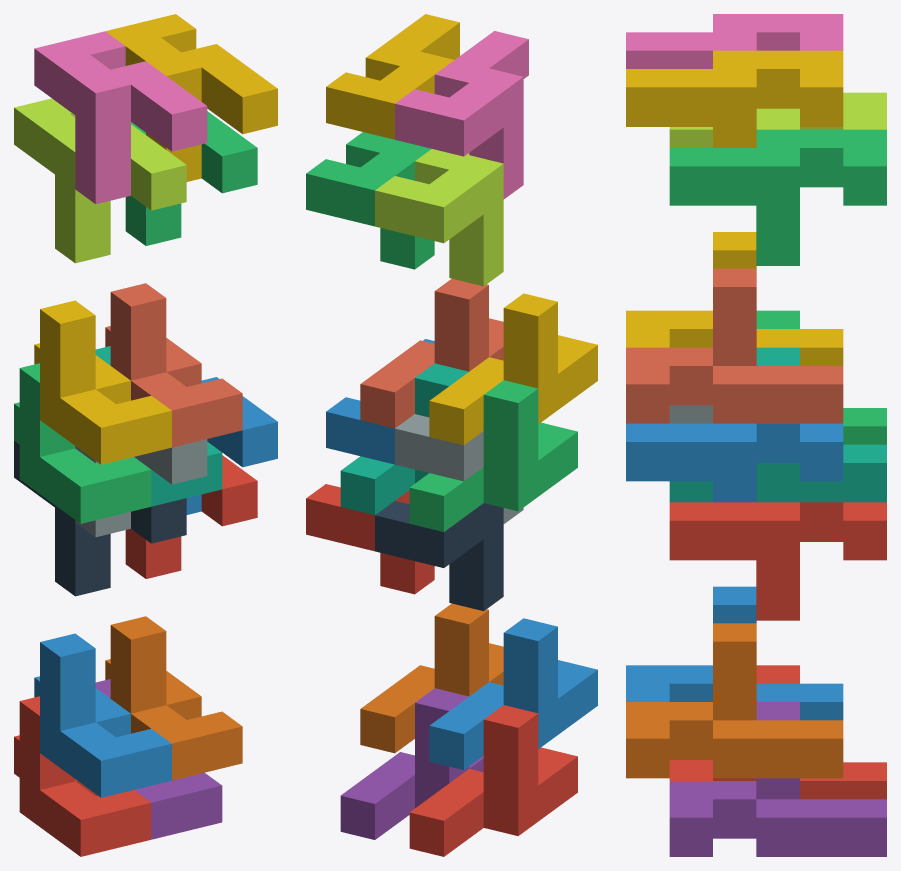
The model's file is tiling.obj.
3 views of the same model, side by side, from view 1: azimuth 30°, elevation 25°; view 2: azimuth 150°, elevation 25°; view 3: azimuth 270°, elevation 25° (orthographic). The views are drawn at different scales.
Parts seen in each view (by area): view 1: copy_2_domain_4, copy_1_domain_2, copy_1_domain_4, copy_1_domain_6, copy_1_domain_8, copy_2_domain_3, copy_2_domain_8, copy_1_domain_1, copy_1_domain_3, copy_2_domain_1, copy_2_domain_7, copy_2_domain_5 (+4 smaller); view 2: copy_1_domain_1, copy_2_domain_4, copy_1_domain_3, copy_2_domain_3, copy_1_domain_4, copy_1_domain_2, copy_1_domain_6, copy_1_domain_8, copy_2_domain_8, copy_2_domain_1, copy_2_domain_7, copy_1_domain_5 (+4 smaller); view 3: copy_1_domain_6, copy_1_domain_8, copy_2_domain_7, copy_2_domain_8, copy_1_domain_5, copy_2_domain_5, copy_2_domain_6, copy_2_domain_4, copy_1_domain_4, copy_1_domain_2, copy_1_domain_7, copy_1_domain_1 (+3 smaller).
Boxes of the visible parts, <box> form: copy_2_domain_4: <box>34,31,207,204</box>; copy_1_domain_2: <box>34,633,171,797</box>; copy_1_domain_4: <box>34,300,171,464</box>; copy_1_domain_6: <box>105,616,242,780</box>; copy_1_domain_8: <box>105,283,242,447</box>; copy_2_domain_3: <box>14,98,186,263</box>; copy_2_domain_8: <box>105,14,277,181</box>; copy_1_domain_1: <box>14,696,151,856</box>; copy_1_domain_3: <box>14,363,151,523</box>; copy_2_domain_1: <box>14,441,186,596</box>; copy_2_domain_7: <box>125,111,257,245</box>; copy_2_domain_5: <box>125,455,257,578</box>; copy_1_domain_1: <box>409,705,577,856</box>; copy_2_domain_4: <box>395,31,528,199</box>; copy_1_domain_3: <box>409,380,577,531</box>; copy_2_domain_3: <box>375,149,503,286</box>; copy_1_domain_4: <box>429,293,597,445</box>; copy_1_domain_2: <box>429,618,597,769</box>; copy_1_domain_6: <box>360,603,503,753</box>; copy_1_domain_8: <box>360,278,503,428</box>; copy_2_domain_8: <box>326,14,459,139</box>; copy_2_domain_1: <box>375,501,503,611</box>; copy_2_domain_7: <box>306,132,434,269</box>; copy_1_domain_5: <box>340,688,483,839</box>; copy_1_domain_6: <box>626,623,843,778</box>; copy_1_domain_8: <box>626,268,843,423</box>; copy_2_domain_7: <box>669,129,886,265</box>; copy_2_domain_8: <box>626,50,843,147</box>; copy_1_domain_5: <box>669,702,886,856</box>; copy_2_domain_5: <box>669,502,886,620</box>; copy_2_domain_6: <box>626,423,843,502</box>; copy_2_domain_4: <box>626,14,843,68</box>; copy_1_domain_4: <box>626,232,843,365</box>; copy_1_domain_2: <box>626,586,843,720</box>; copy_1_domain_7: <box>669,347,886,502</box>; copy_1_domain_1: <box>669,665,886,799</box>.
Size of the model in its own units: 5 by 20 by 6.
